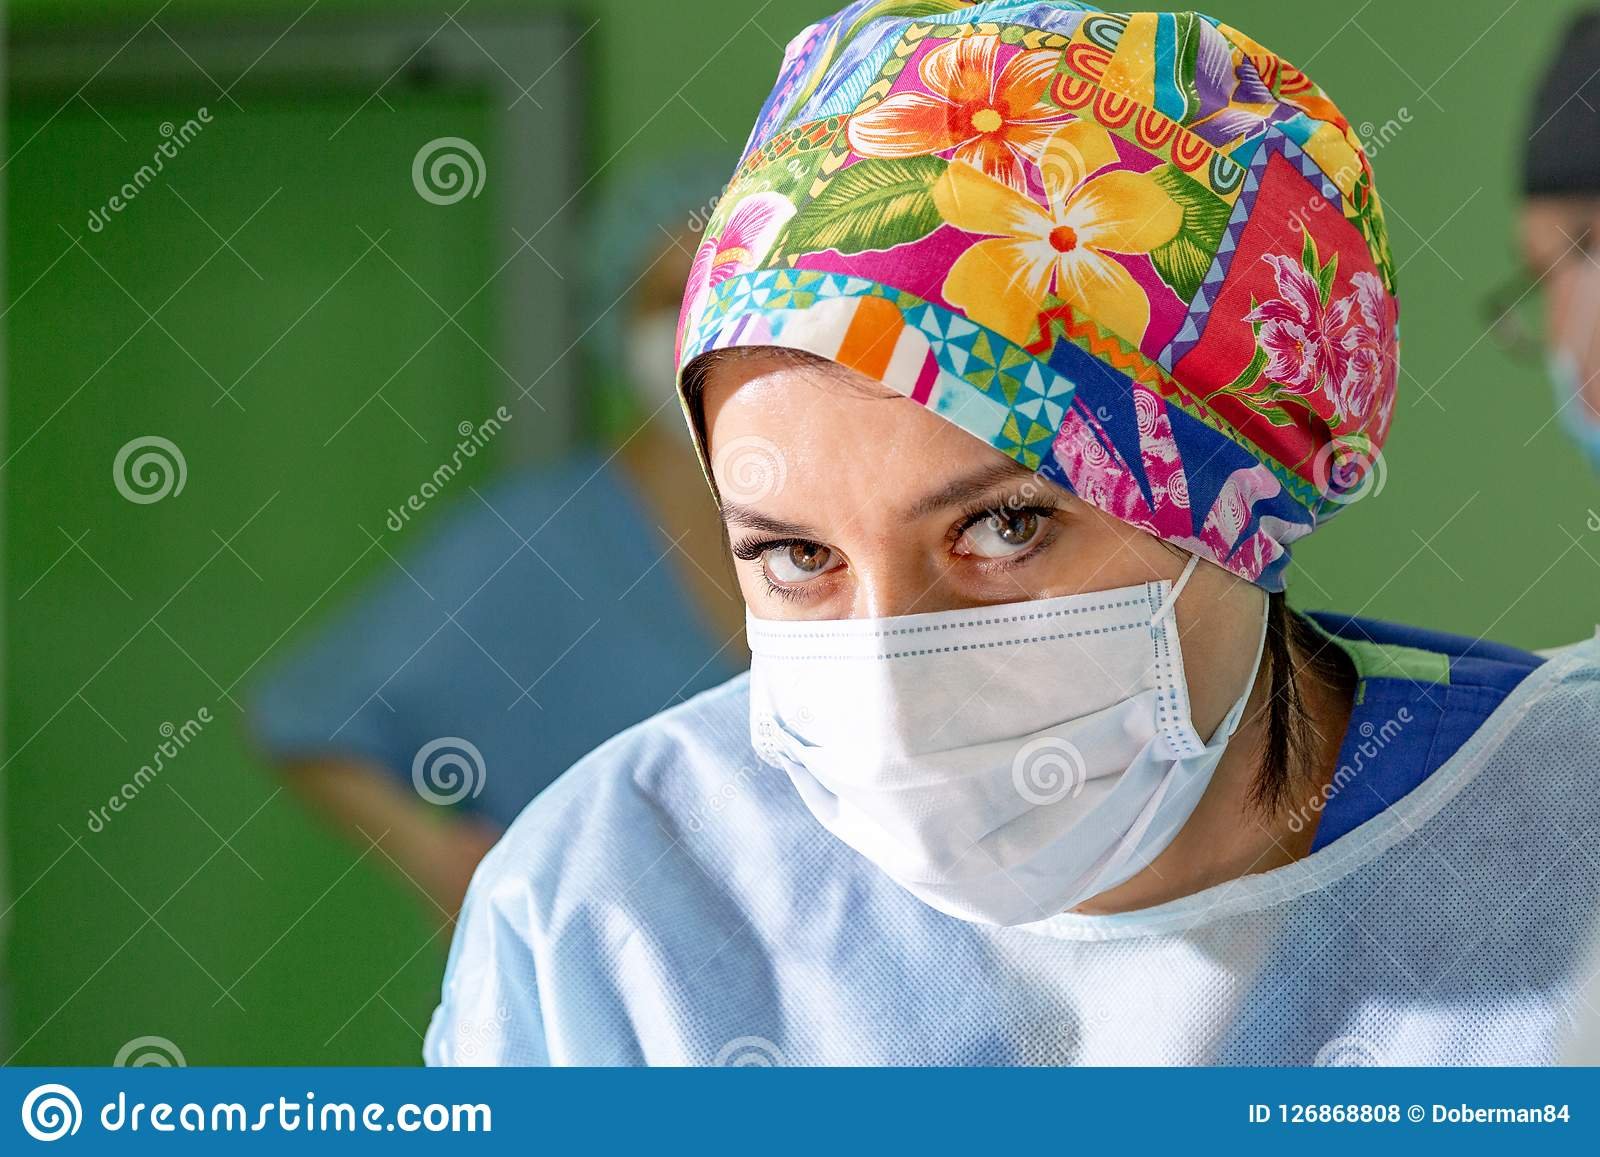mask: (727, 611, 1212, 912)
